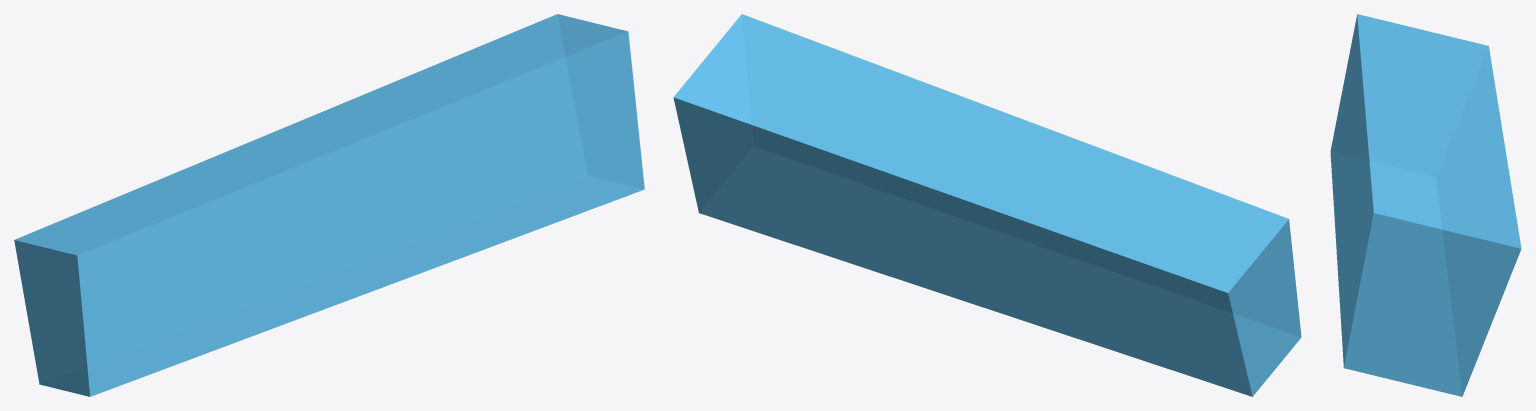
The model's file is Event_421115418_HErechit_71.fbx.
3 renders of one model, left to right at view 1: azimuth 30°, elevation 25°; view 2: azimuth 150°, elevation 25°; view 3: azimuth 270°, elevation 25°, orthographic. The views are drawn at different scales.
Parts seen in each view (by area): view 1: Model; view 2: Model; view 3: Model.
Part boxes in pixels (left/top/right/bottom): Model: left=14, top=14, right=644, bottom=396; Model: left=673, top=14, right=1301, bottom=396; Model: left=1330, top=14, right=1521, bottom=396.
Bounding box in the file's own units: 1.25 × 0.5068 × 0.3531.
